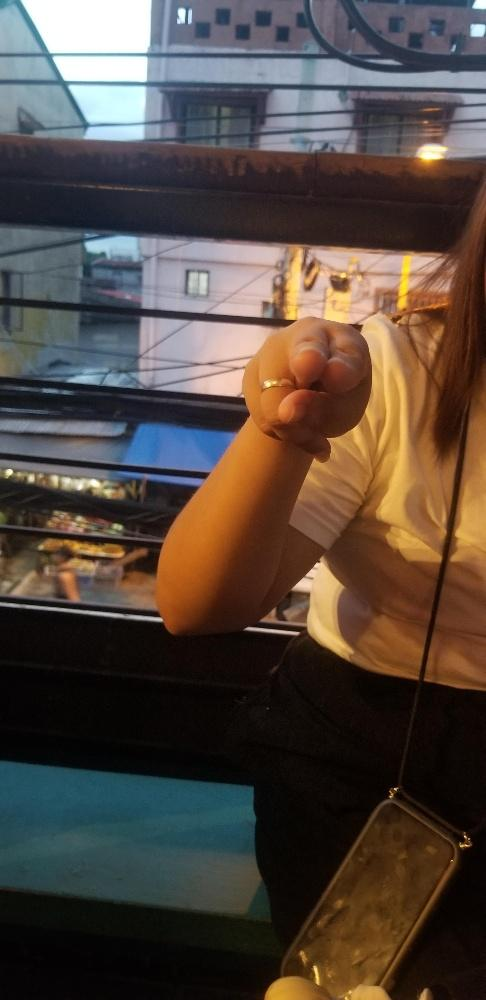n: (238, 315, 372, 462)
